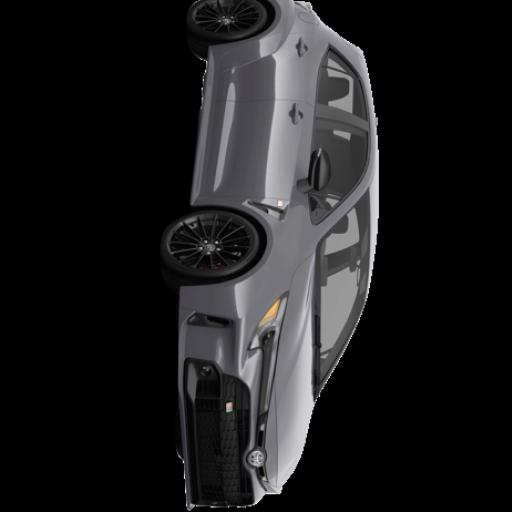hatchback: (162, 0, 376, 510)
